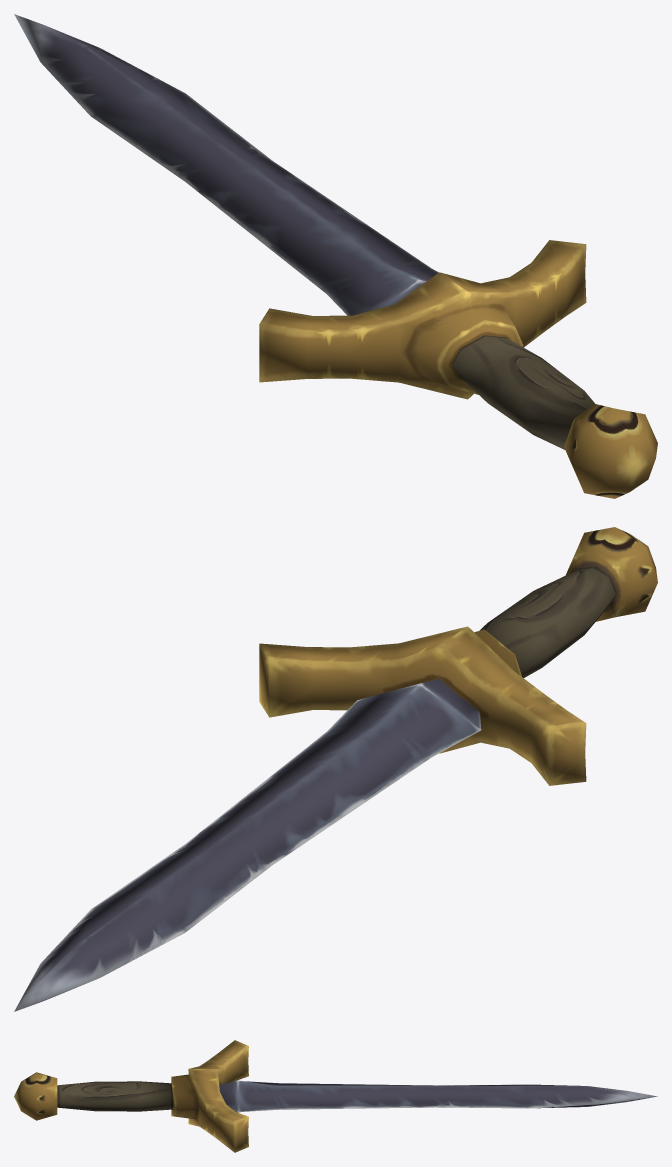
Rendered from NPE_Weapon_1H_Sword_175170.fbx.
3 renders of one model, top to bottom at view 1: azimuth 30°, elevation 25°; view 2: azimuth 150°, elevation 25°; view 3: azimuth 270°, elevation 25°, orthographic. The views are drawn at different scales.
Parts seen in each view (by area): view 1: sword_lp; view 2: sword_lp; view 3: sword_lp.
Boxes of the visible parts, x1,y1,x2,y2 form: sword_lp: (14,14,657,498); sword_lp: (14,527,657,1011); sword_lp: (14,1040,657,1152).
Bounding box in the file's own units: 137 × 42.56 × 451.
3 materials, 3 textured.
